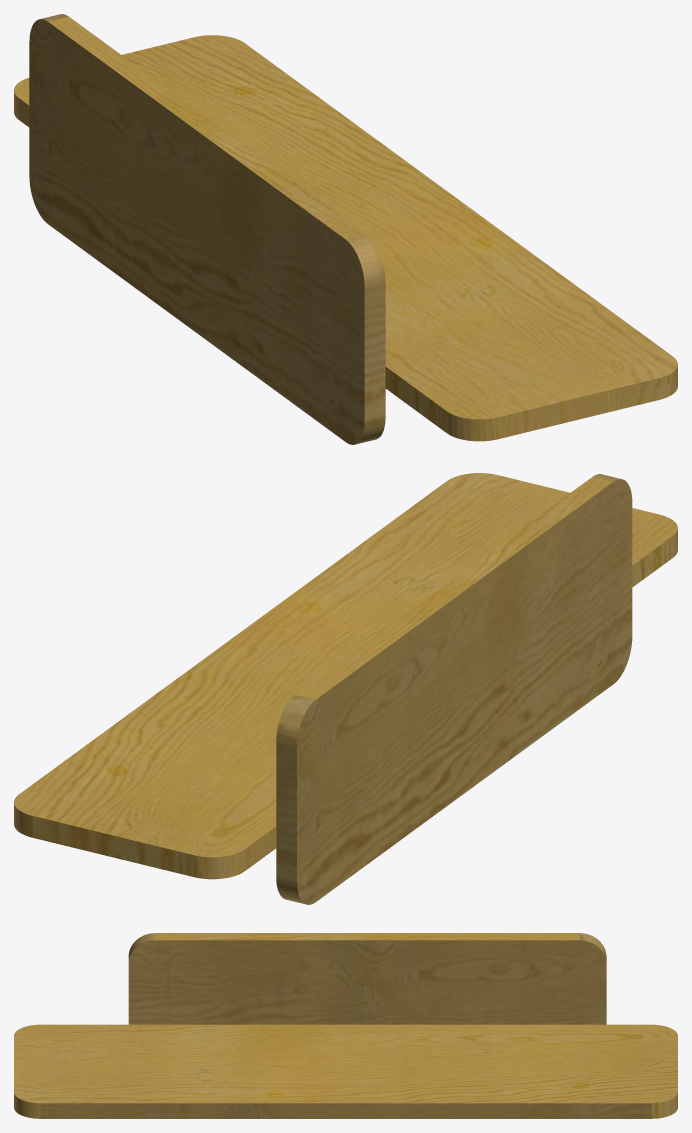
Rendered from repisa-bano.glb.
3 views of the same model, one above another, from view 1: azimuth 30°, elevation 25°; view 2: azimuth 150°, elevation 25°; view 3: azimuth 270°, elevation 25° (orthographic). The views are drawn at different scales.
Size of the model in its own units: 0.153 by 0.12 by 0.5.
Materials: 2 (2 with a texture image).
